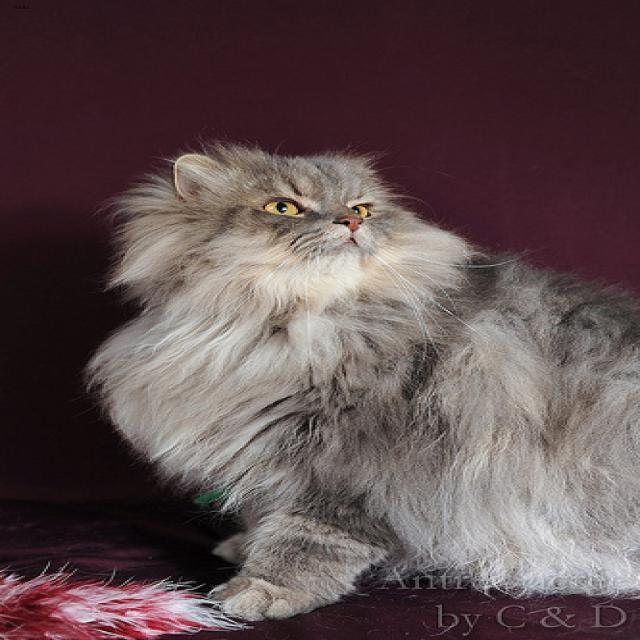Persian: (104, 128, 460, 337)
